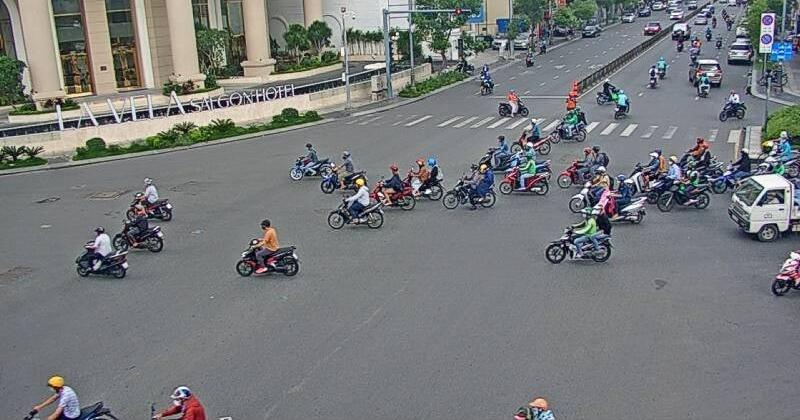xe may: (544, 203, 610, 265), (232, 219, 297, 276), (327, 178, 384, 231), (589, 174, 646, 226), (709, 146, 766, 195), (442, 161, 495, 213), (655, 160, 707, 211), (111, 207, 168, 250), (556, 144, 610, 188), (366, 164, 415, 211), (75, 231, 126, 276), (498, 151, 547, 197), (126, 176, 172, 219), (289, 139, 334, 181), (321, 149, 365, 191), (402, 157, 444, 201), (476, 134, 519, 174), (509, 117, 549, 153), (549, 106, 587, 143), (717, 88, 746, 121), (611, 89, 631, 120)
